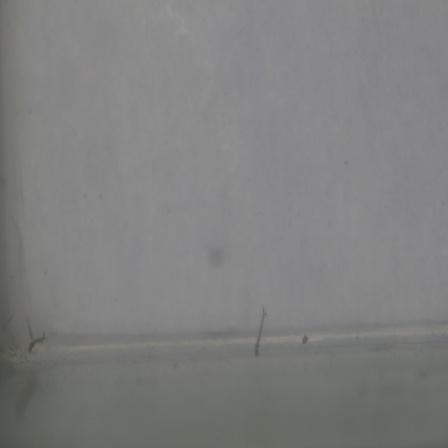Jentik-Nyamuk: (248, 306, 271, 361), (21, 328, 51, 357)
